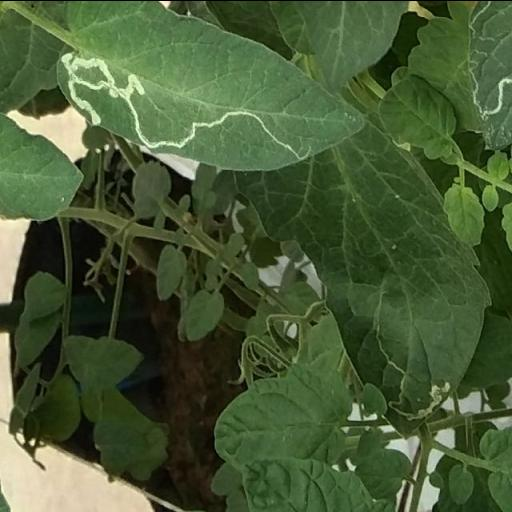disease_tomato: (58, 0, 370, 172)
